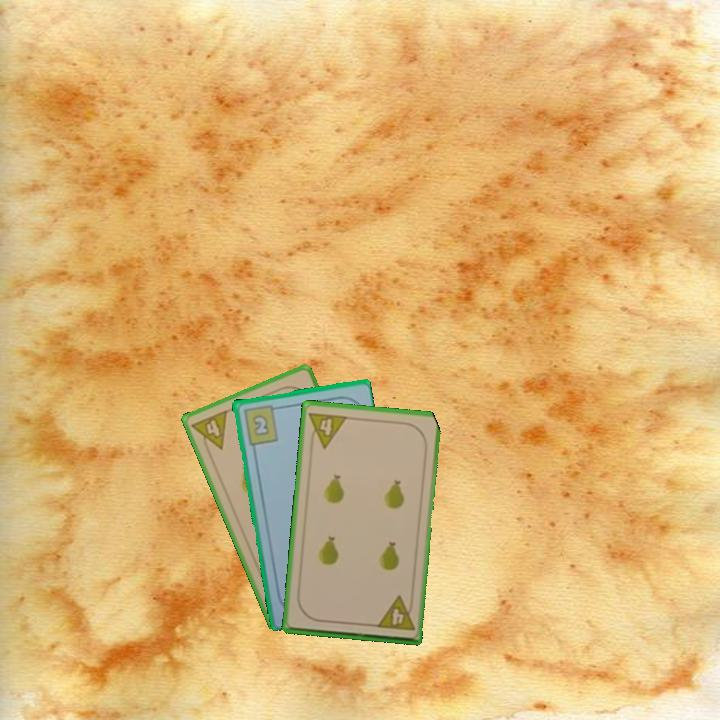2b: (240, 401, 282, 447)
4p: (188, 406, 230, 457), (305, 408, 350, 451), (373, 593, 417, 633)
